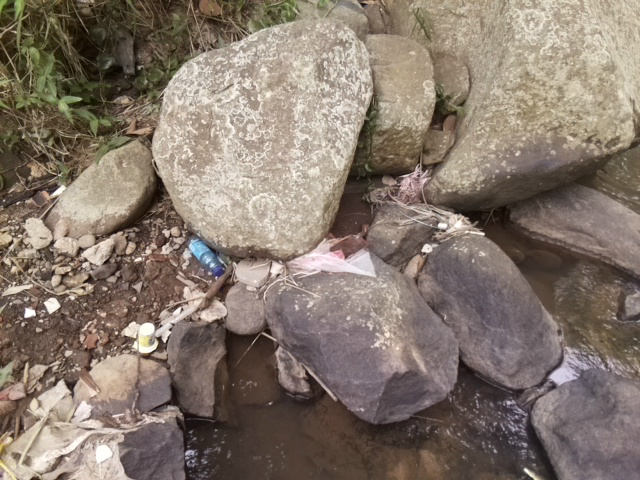Sampah_Botol_Plastik: (185, 234, 227, 277)
Sampah_Plastik: (286, 236, 379, 280), (370, 165, 436, 214)
Sampah_Styrofoam: (131, 321, 161, 353)
